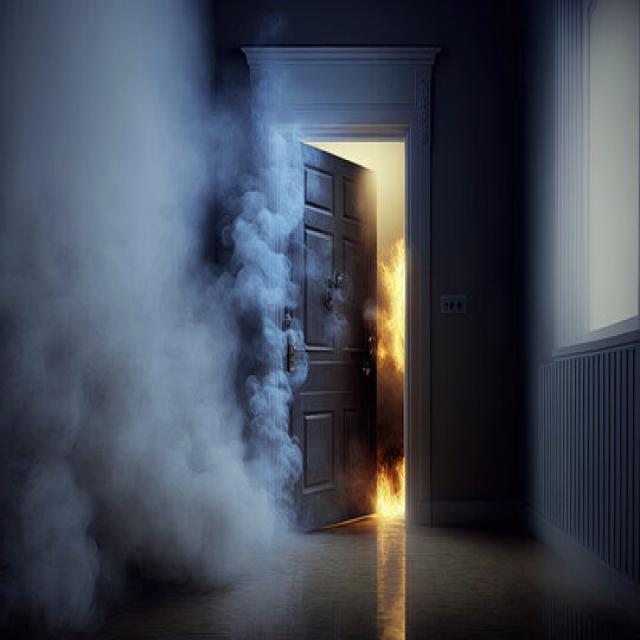fire: (0, 11, 297, 632)
smoke: (374, 231, 413, 376), (363, 438, 417, 523)
